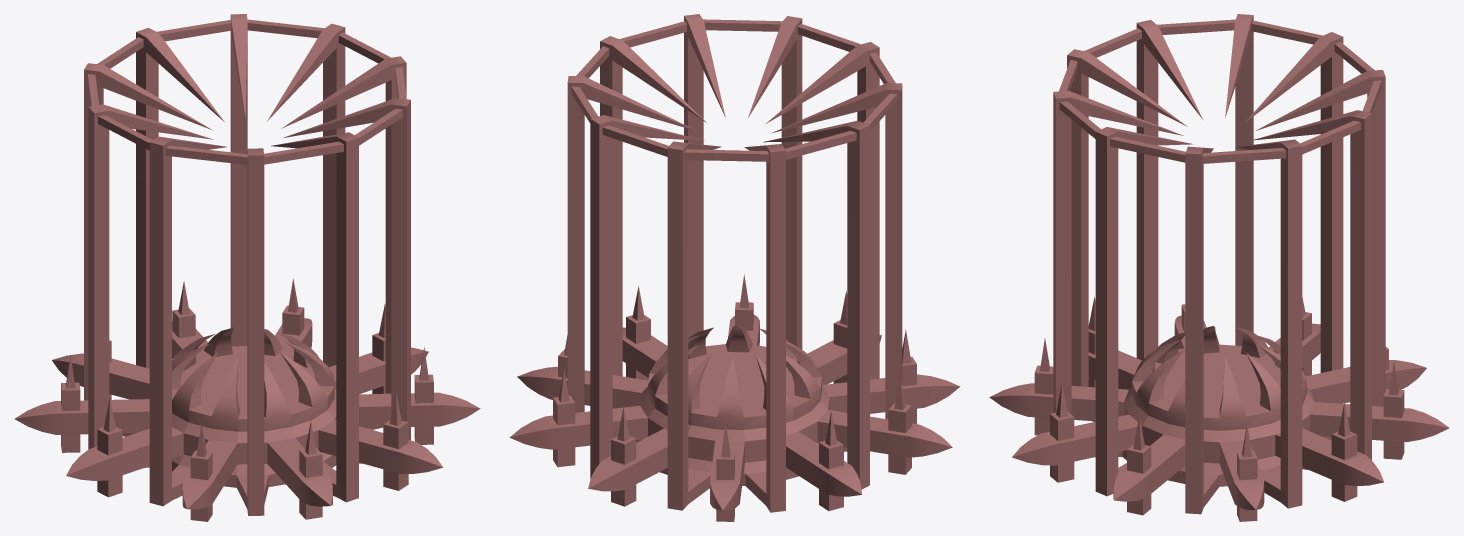
Rendered from propCrystalStand02.fbx.
3 views of the same model, side by side, from view 1: azimuth 30°, elevation 25°; view 2: azimuth 150°, elevation 25°; view 3: azimuth 270°, elevation 25° (orthographic).
Parts seen in each view (by area): view 1: propCrystalStand02; view 2: propCrystalStand02; view 3: propCrystalStand02.
Boxes of the visible parts, bbox=[...] form: propCrystalStand02: bbox=[14, 14, 480, 521]; propCrystalStand02: bbox=[510, 14, 960, 521]; propCrystalStand02: bbox=[989, 14, 1449, 521].
Size of the model in its own units: 6.7 by 5.78 by 6.7.
